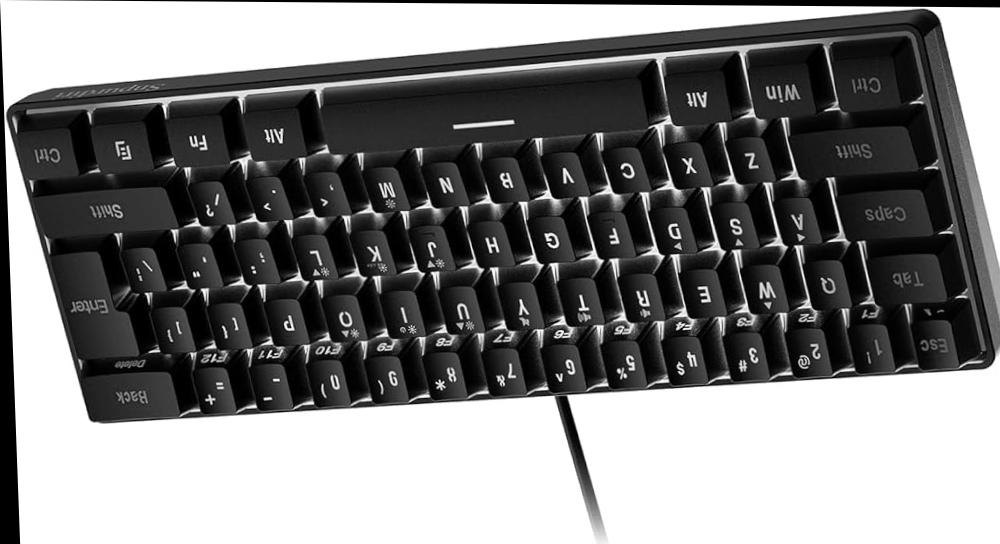keyboard: (0, 0, 1000, 432)
